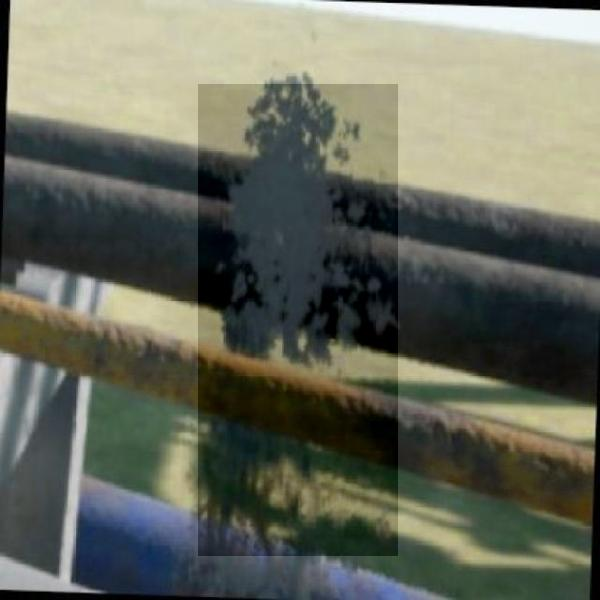gas: (198, 84, 398, 556)
